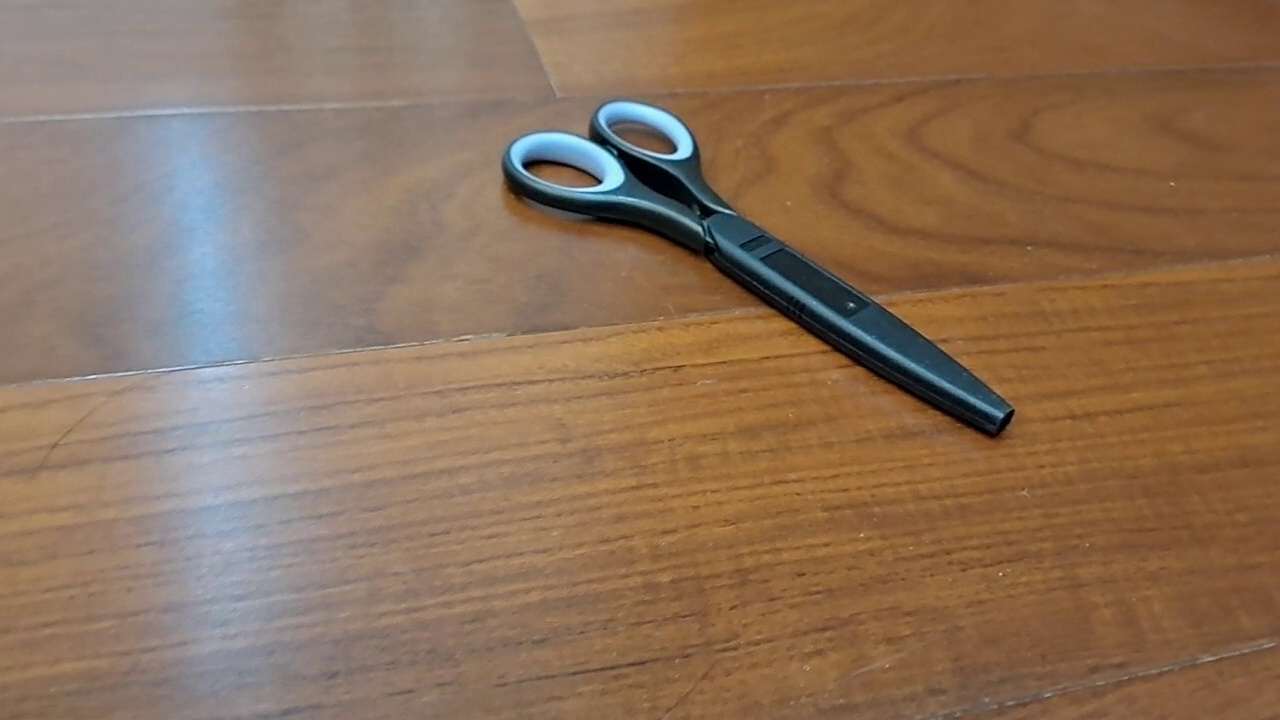scissors: (500, 97, 1017, 441)
